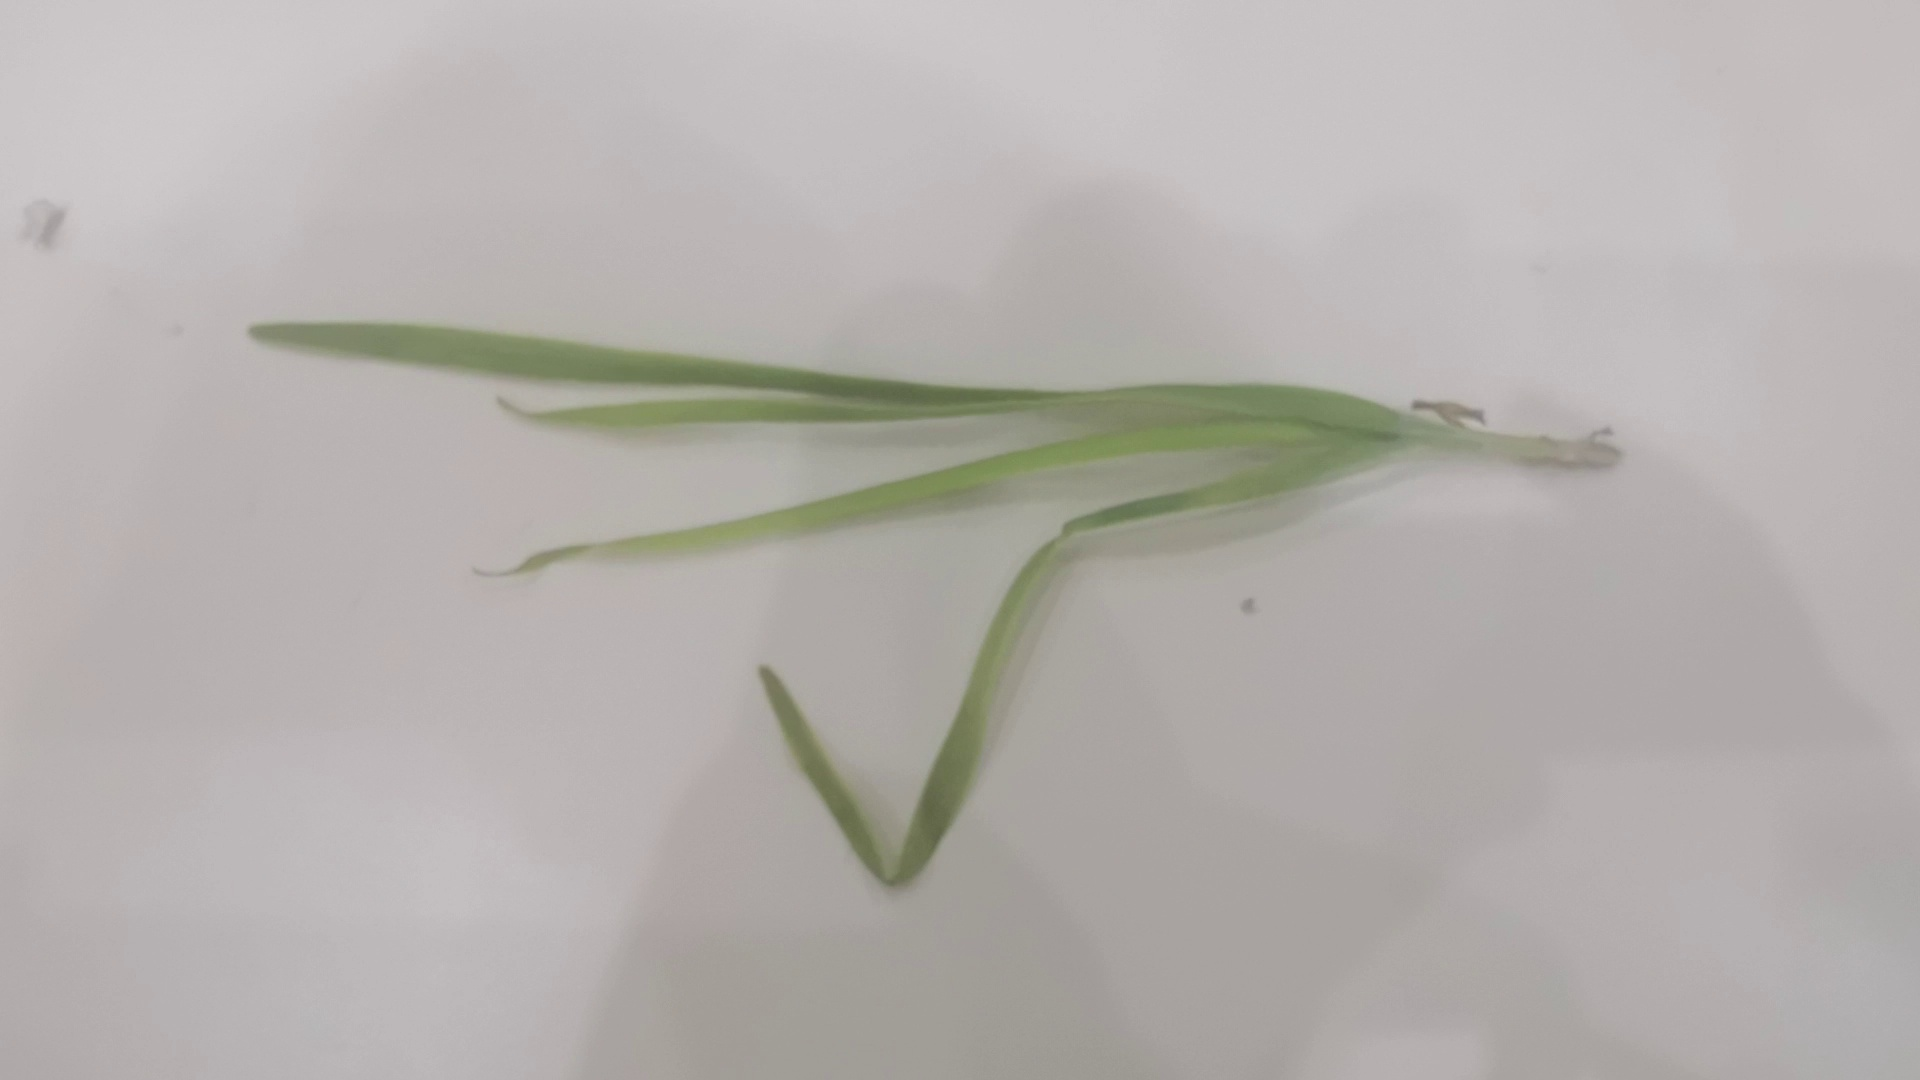chives: (185, 281, 1691, 887)
